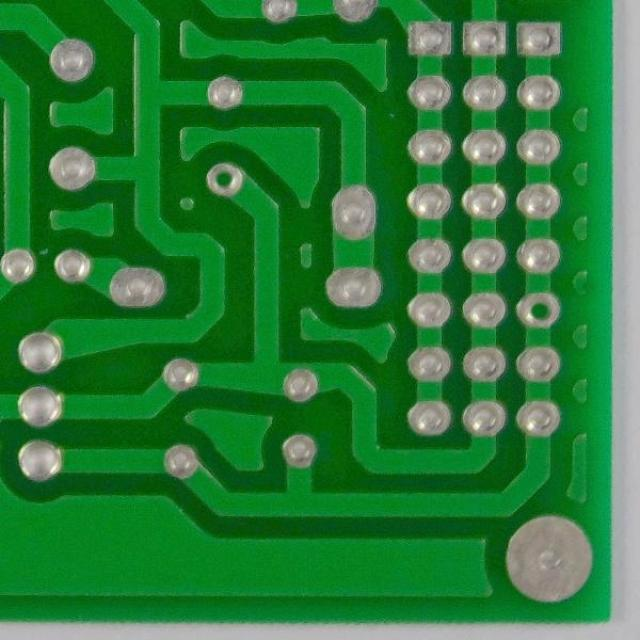missing_hole: (522, 289, 556, 330), (207, 163, 243, 193)
